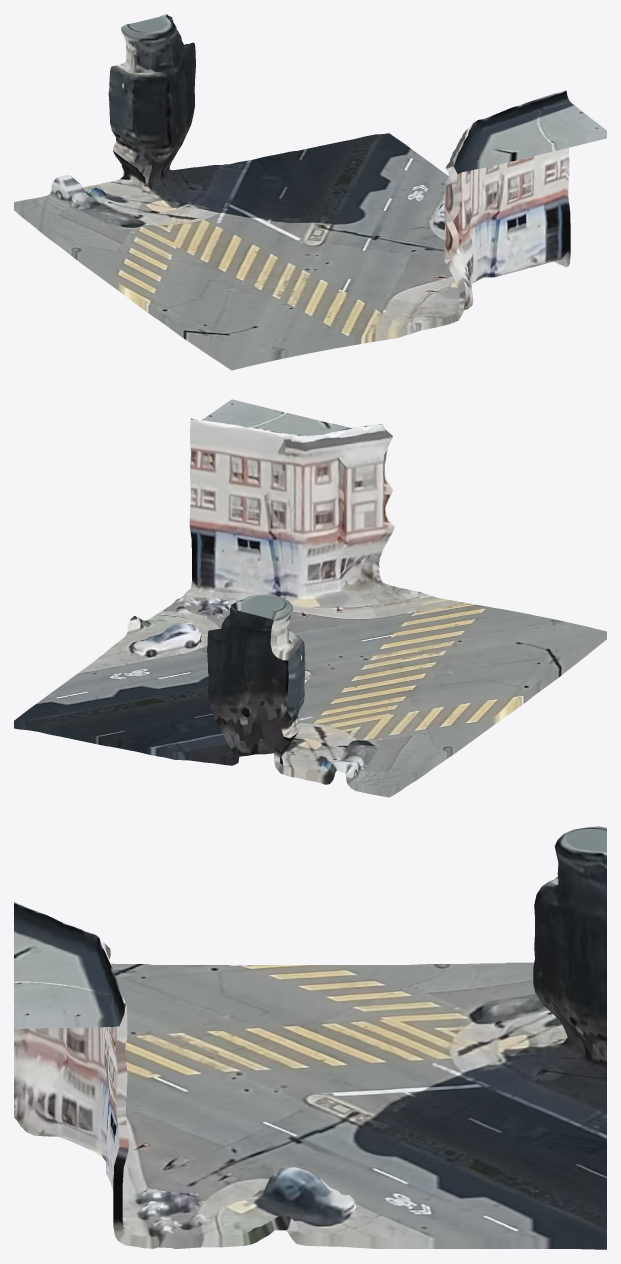
Rendered from z20-167738-405199-h0-yup-uvflip-v3-world.glb.
The picture shows the model from 3 angles, top to bottom: view 1: azimuth 30°, elevation 25°; view 2: azimuth 150°, elevation 25°; view 3: azimuth 270°, elevation 25°; orthographic projection. The views are drawn at different scales.
Bounding box in the file's own units: 30.16 × 13.96 × 30.32.
1 material, 1 textured.
